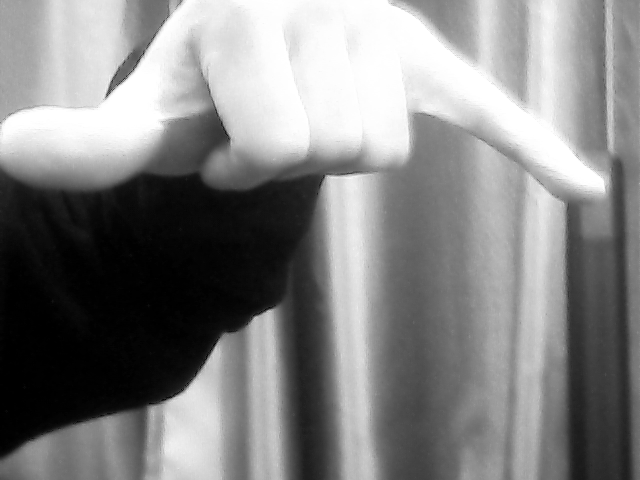aloha: (1, 1, 606, 211)
